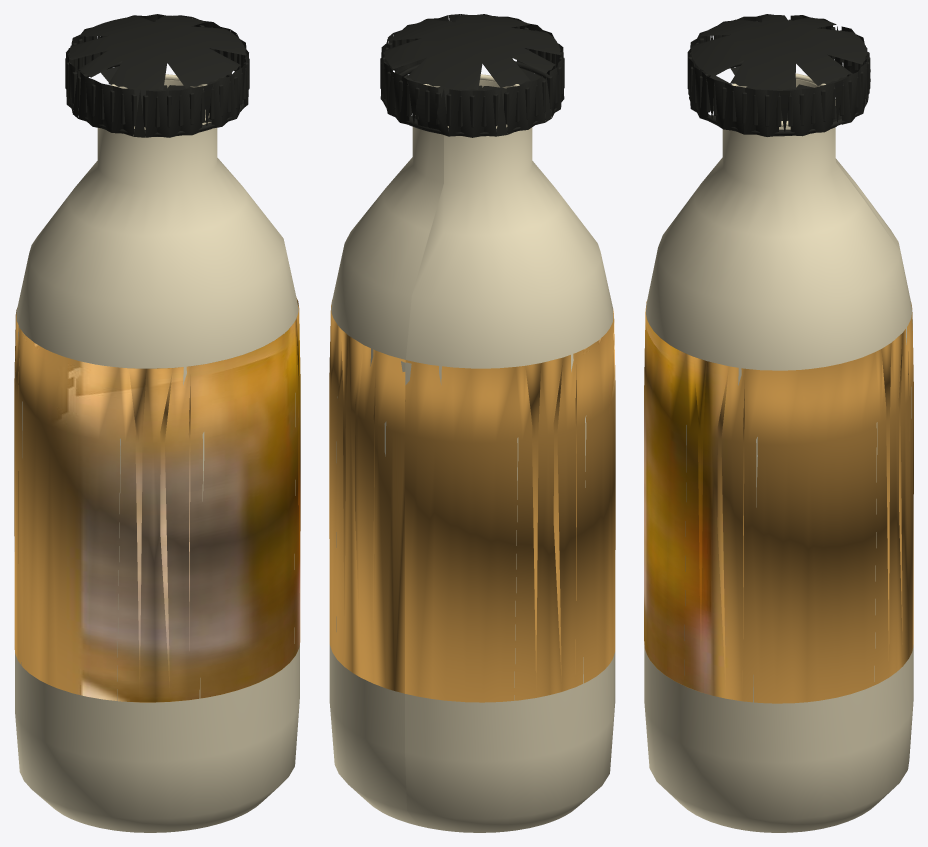
3 views of the same model, side by side, from view 1: azimuth 30°, elevation 25°; view 2: azimuth 150°, elevation 25°; view 3: azimuth 270°, elevation 25° (orthographic).
Visible parts, largest first — view 1: profile-conforming printed label, thin shell with corrected shoulder, removable closure; view 2: profile-conforming printed label, thin shell with corrected shoulder, removable closure, closure lower bead; view 3: profile-conforming printed label, thin shell with corrected shoulder, removable closure.
Boxes of the visible parts, <box> form: profile-conforming printed label: <box>14,298,300,702</box>; thin shell with corrected shoulder: <box>15,78,299,832</box>; removable closure: <box>66,14,248,137</box>; profile-conforming printed label: <box>329,300,615,702</box>; thin shell with corrected shoulder: <box>329,80,615,832</box>; removable closure: <box>380,14,564,137</box>; closure lower bead: <box>383,61,561,135</box>; profile-conforming printed label: <box>644,301,913,703</box>; thin shell with corrected shoulder: <box>644,79,913,832</box>; removable closure: <box>687,14,870,136</box>.
Size of the model in its own units: 0.0712 by 0.2011 by 0.0662.
Materials: 4 (1 with a texture image).
